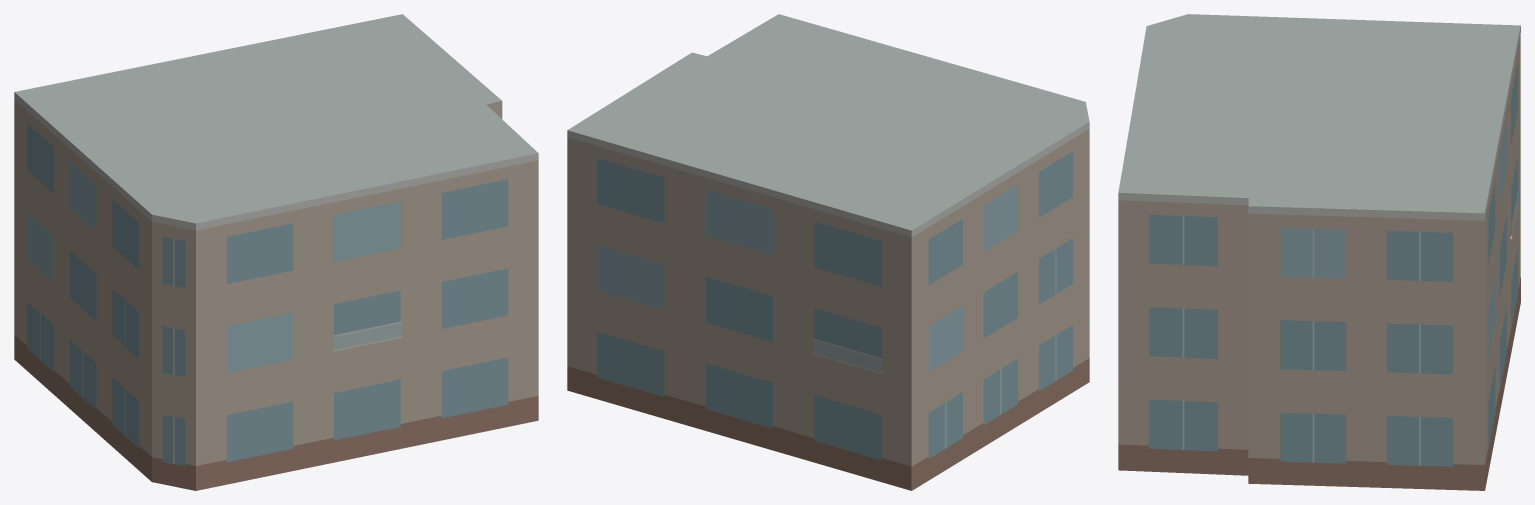
The model's file is survey-upis-33022573.glb.
3 renders of one model, left to right at view 1: azimuth 30°, elevation 25°; view 2: azimuth 150°, elevation 25°; view 3: azimuth 270°, elevation 25°, orthographic. The views are drawn at different scales.
Parts seen in each view (by area): view 1: survey-upis-33022573.tmp; view 2: survey-upis-33022573.tmp; view 3: survey-upis-33022573.tmp.
Part boxes in pixels (x1,y1,x2,y2): survey-upis-33022573.tmp: (14, 14, 538, 490); survey-upis-33022573.tmp: (567, 14, 1089, 490); survey-upis-33022573.tmp: (1118, 14, 1520, 490).
Size of the model in its own units: 14.1 by 9.15 by 12.03.
